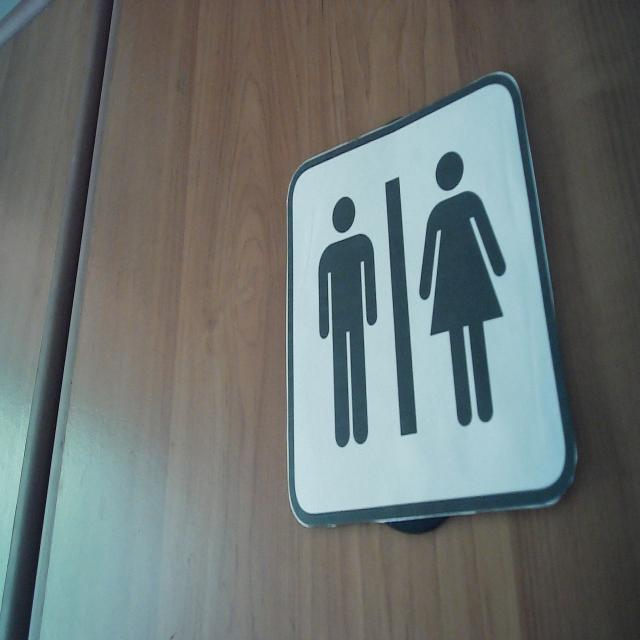restroom: (284, 65, 582, 534)
